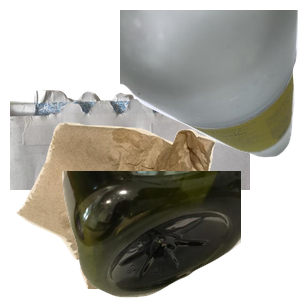glass: (120, 10, 300, 160)
paper: (10, 84, 250, 264)
plastic: (60, 171, 300, 300)
trash: (14, 120, 222, 300)
